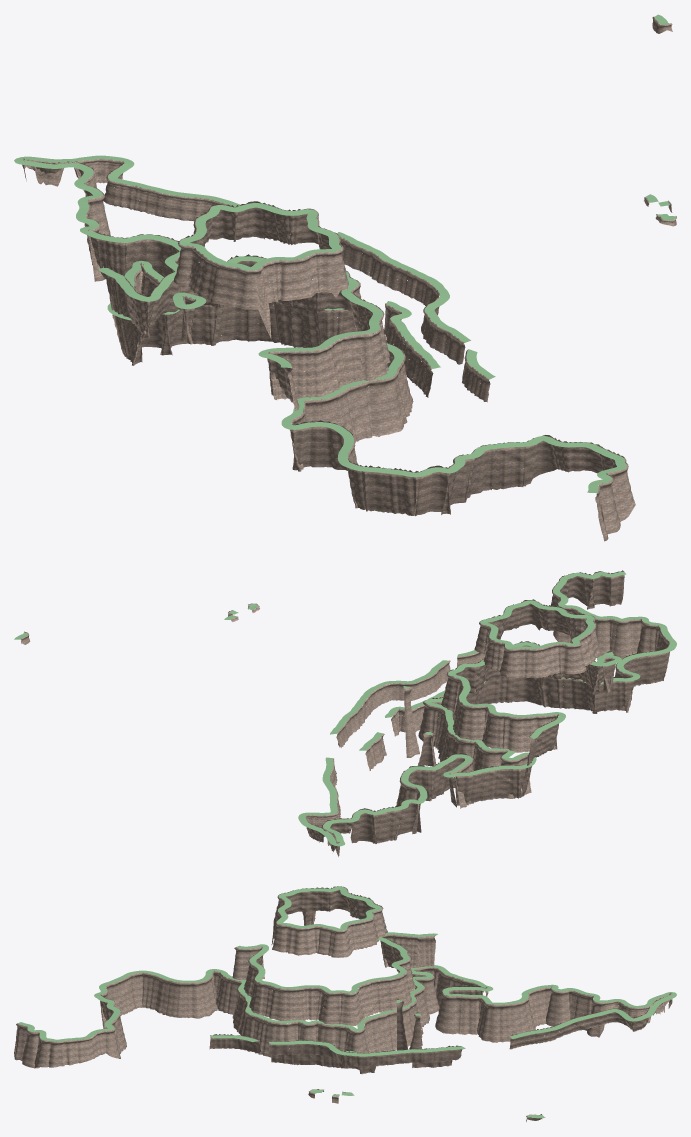
File: CliffWall_plateau_east.glb
3 renders of one model, top to bottom at view 1: azimuth 30°, elevation 25°; view 2: azimuth 150°, elevation 25°; view 3: azimuth 270°, elevation 25°, orthographic. The views are drawn at different scales.
Parts seen in each view (by area): view 1: CliffWall_plateau_east-rock11, CliffWall_plateau_east-rock0, CliffWall_plateau_east-rock3, CliffWall_plateau_east-lip11, CliffWall_plateau_east-rock10, CliffWall_plateau_east-lip3, CliffWall_plateau_east-lip0, CliffWall_plateau_east-rock12, CliffWall_plateau_east-lip10; view 2: CliffWall_plateau_east-rock11, CliffWall_plateau_east-rock3, CliffWall_plateau_east-rock0, CliffWall_plateau_east-lip11, CliffWall_plateau_east-rock10, CliffWall_plateau_east-lip0, CliffWall_plateau_east-lip3, CliffWall_plateau_east-lip10, CliffWall_plateau_east-rock7, CliffWall_plateau_east-rock12, CliffWall_plateau_east-rock13; view 3: CliffWall_plateau_east-rock11, CliffWall_plateau_east-rock3, CliffWall_plateau_east-rock0, CliffWall_plateau_east-lip11, CliffWall_plateau_east-rock10, CliffWall_plateau_east-lip3, CliffWall_plateau_east-lip0, CliffWall_plateau_east-rock12, CliffWall_plateau_east-lip10, CliffWall_plateau_east-rock9, CliffWall_plateau_east-rock7.
Boxes of the visible parts, bbox=[...] form: CliffWall_plateau_east-rock11: bbox=[22, 158, 635, 541]; CliffWall_plateau_east-rock0: bbox=[174, 201, 348, 338]; CliffWall_plateau_east-rock3: bbox=[106, 254, 390, 410]; CliffWall_plateau_east-lip11: bbox=[14, 155, 626, 493]; CliffWall_plateau_east-rock10: bbox=[340, 236, 465, 364]; CliffWall_plateau_east-lip3: bbox=[98, 256, 382, 367]; CliffWall_plateau_east-lip0: bbox=[179, 203, 341, 270]; CliffWall_plateau_east-rock12: bbox=[384, 303, 433, 397]; CliffWall_plateau_east-lip10: bbox=[337, 232, 470, 342]; CliffWall_plateau_east-rock11: bbox=[305, 570, 669, 856]; CliffWall_plateau_east-rock3: bbox=[441, 641, 611, 796]; CliffWall_plateau_east-rock0: bbox=[474, 599, 600, 678]; CliffWall_plateau_east-lip11: bbox=[298, 571, 676, 846]; CliffWall_plateau_east-rock10: bbox=[336, 660, 450, 747]; CliffWall_plateau_east-lip0: bbox=[480, 600, 594, 649]; CliffWall_plateau_east-lip3: bbox=[448, 642, 613, 738]; CliffWall_plateau_east-lip10: bbox=[330, 660, 448, 734]; CliffWall_plateau_east-rock7: bbox=[404, 687, 419, 757]; CliffWall_plateau_east-rock12: bbox=[391, 695, 443, 736]; CliffWall_plateau_east-rock13: bbox=[365, 733, 386, 770]; CliffWall_plateau_east-rock11: bbox=[14, 967, 672, 1068]; CliffWall_plateau_east-rock3: bbox=[232, 934, 435, 1025]; CliffWall_plateau_east-rock0: bbox=[271, 886, 387, 957]; CliffWall_plateau_east-lip11: bbox=[18, 965, 676, 1041]; CliffWall_plateau_east-rock10: bbox=[268, 1039, 462, 1066]; CliffWall_plateau_east-lip3: bbox=[236, 932, 437, 993]; CliffWall_plateau_east-lip0: bbox=[276, 886, 381, 930]; CliffWall_plateau_east-rock12: bbox=[271, 1049, 375, 1074]; CliffWall_plateau_east-lip10: bbox=[269, 1040, 465, 1056]; CliffWall_plateau_east-rock9: bbox=[209, 1034, 260, 1053]; CliffWall_plateau_east-rock7: bbox=[397, 999, 408, 1050].
Size of the model in its own units: 2786 by 687 by 3578.
4 materials, 1 textured.
